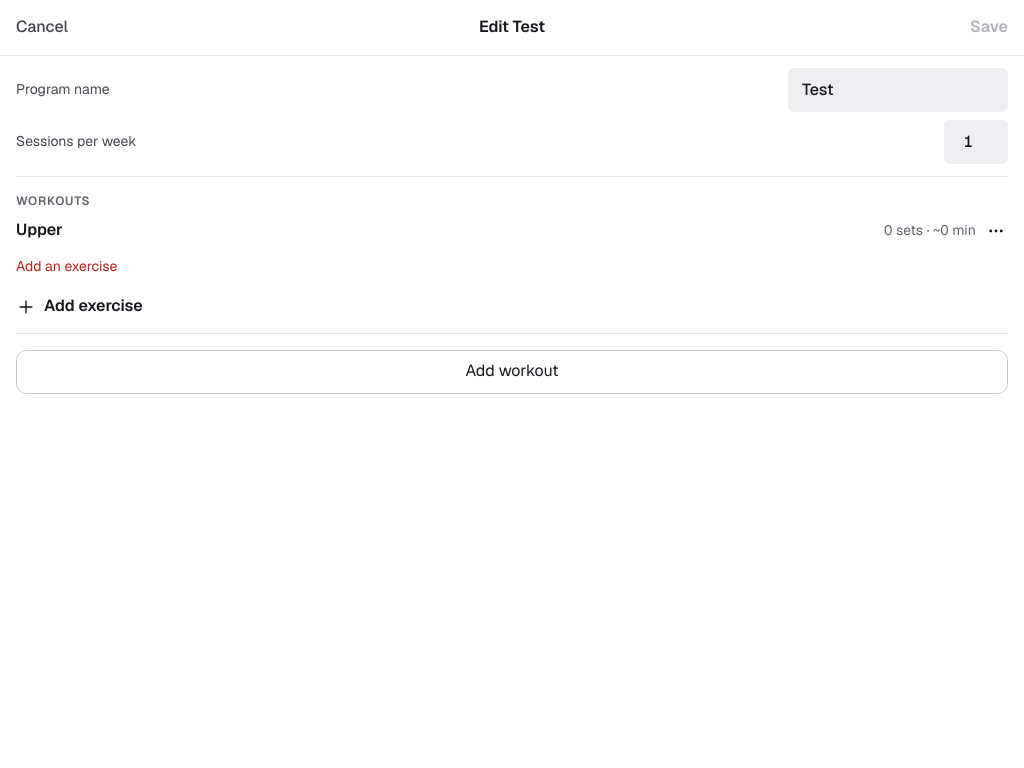
Test case: O16 the no-exercises fault disables Save and is shown under that Workout's Plans, until fixed
The width and height of the screenshot is (1024, 768).
Check: the text "Add an exercise" is shown, box [16,257,117,275]
Check: the button "Save" is disabled, box [970,6,1008,50]
Click the button "Add exercise" at (93, 306), box [16,281,1008,333]
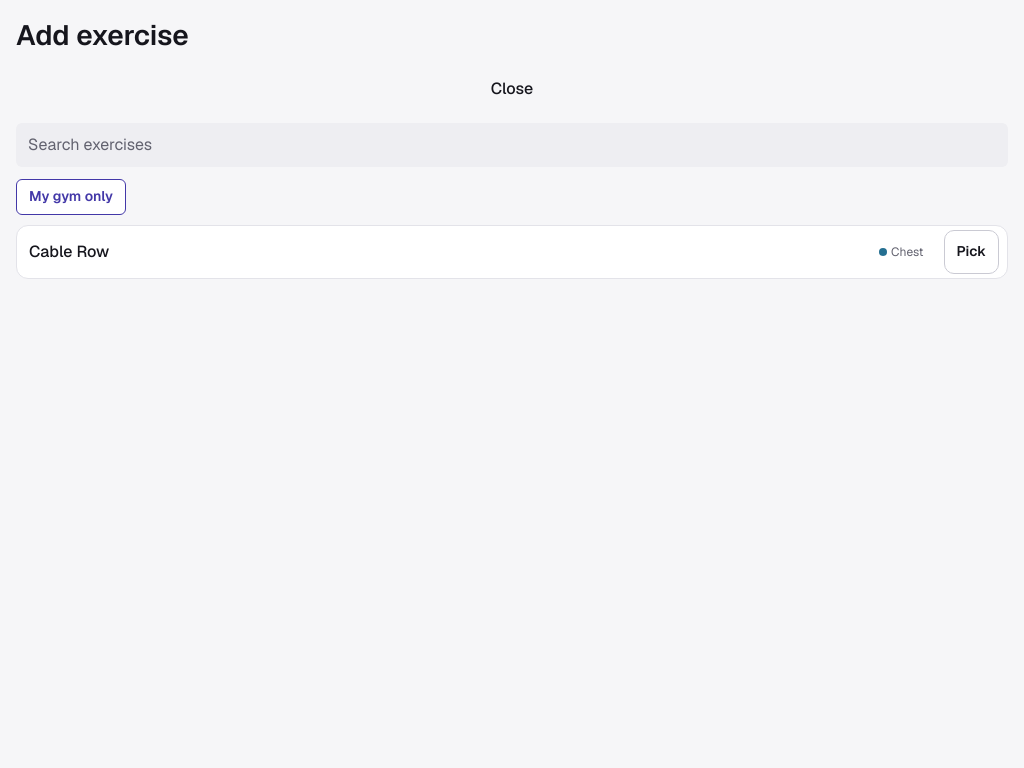
Type "row" into the search field labelled "Search exercises" at (512, 145), box [16,123,1008,167]
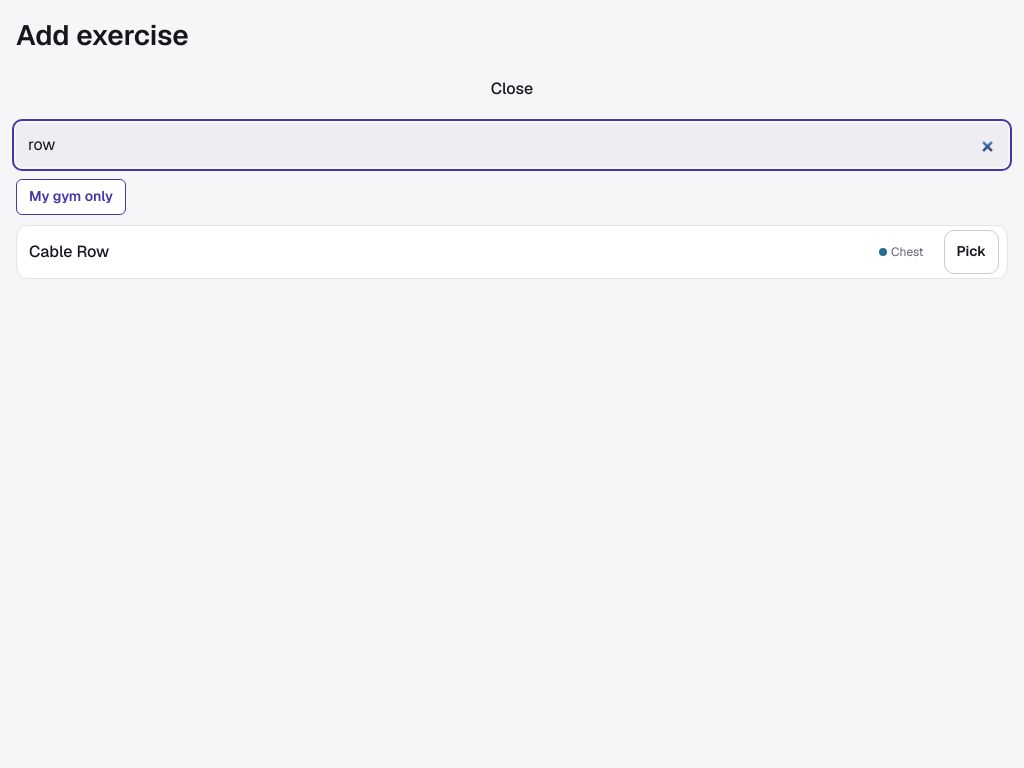
Click the button "Pick" at (971, 252), box [944,230,999,274]
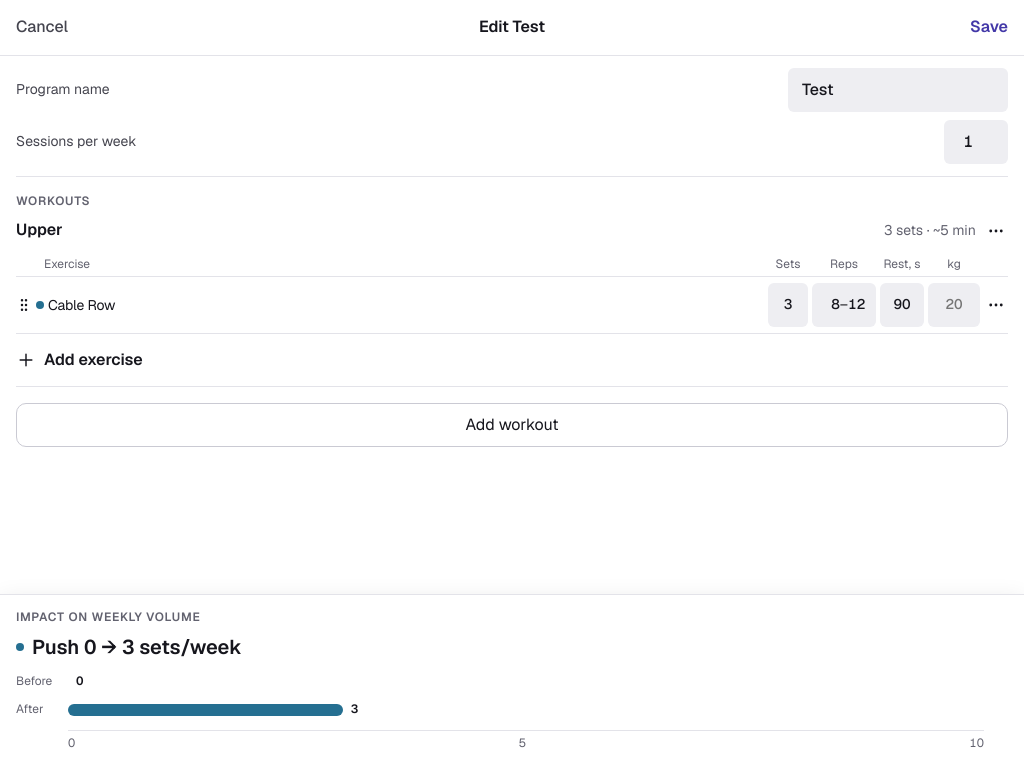
Check: the text "Add an exercise" is gone
Check: the button "Save" is enabled, box [970,6,1008,50]
